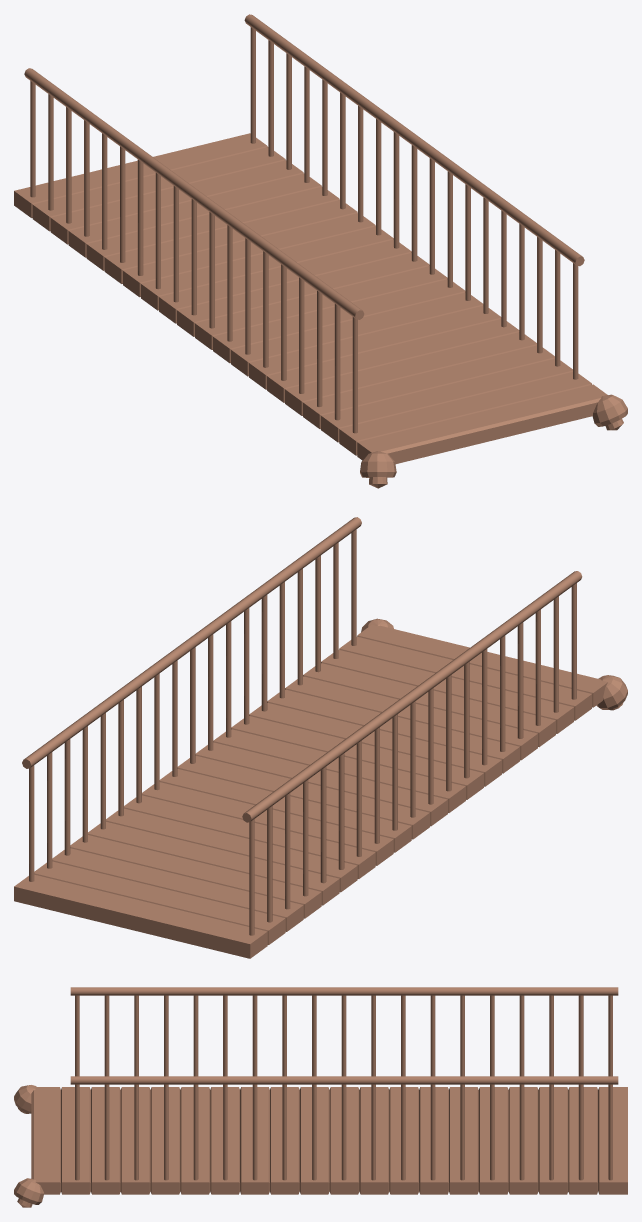
Rendered from SM_fence_platform_01.fbx.
3 views of the same model, one above another, from view 1: azimuth 30°, elevation 25°; view 2: azimuth 150°, elevation 25°; view 3: azimuth 270°, elevation 25° (orthographic). The views are drawn at different scales.
Parts seen in each view (by area): view 1: fence_platform_01; view 2: fence_platform_01; view 3: fence_platform_01.
Boxes of the visible parts, box(x1,y1,x2,y2) form: fence_platform_01: box(14, 14, 627, 488); fence_platform_01: box(14, 517, 627, 958); fence_platform_01: box(14, 987, 627, 1207).
Size of the model in its own units: 332 by 186 by 809.
Materials: 1 (1 with a texture image).
